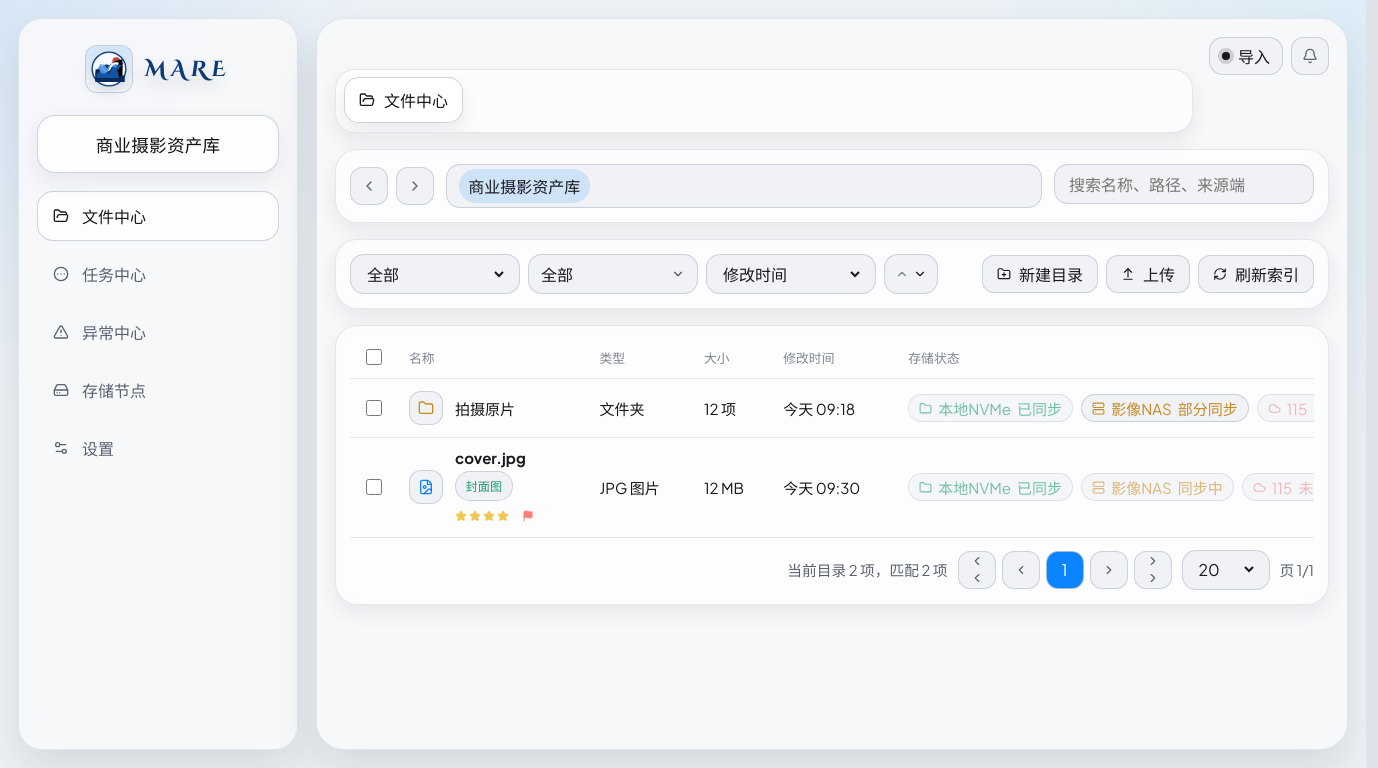
Scenario: App 集成流程 › 页头导入入口可以打开导入中心顶层标签
This screenshot has width=1378, height=768.
What coordinates should you click on to do the following:
click the button "导入"
I would click on:
 (1246, 56)
Its box is x1=1209 y1=37 x2=1283 y2=75.
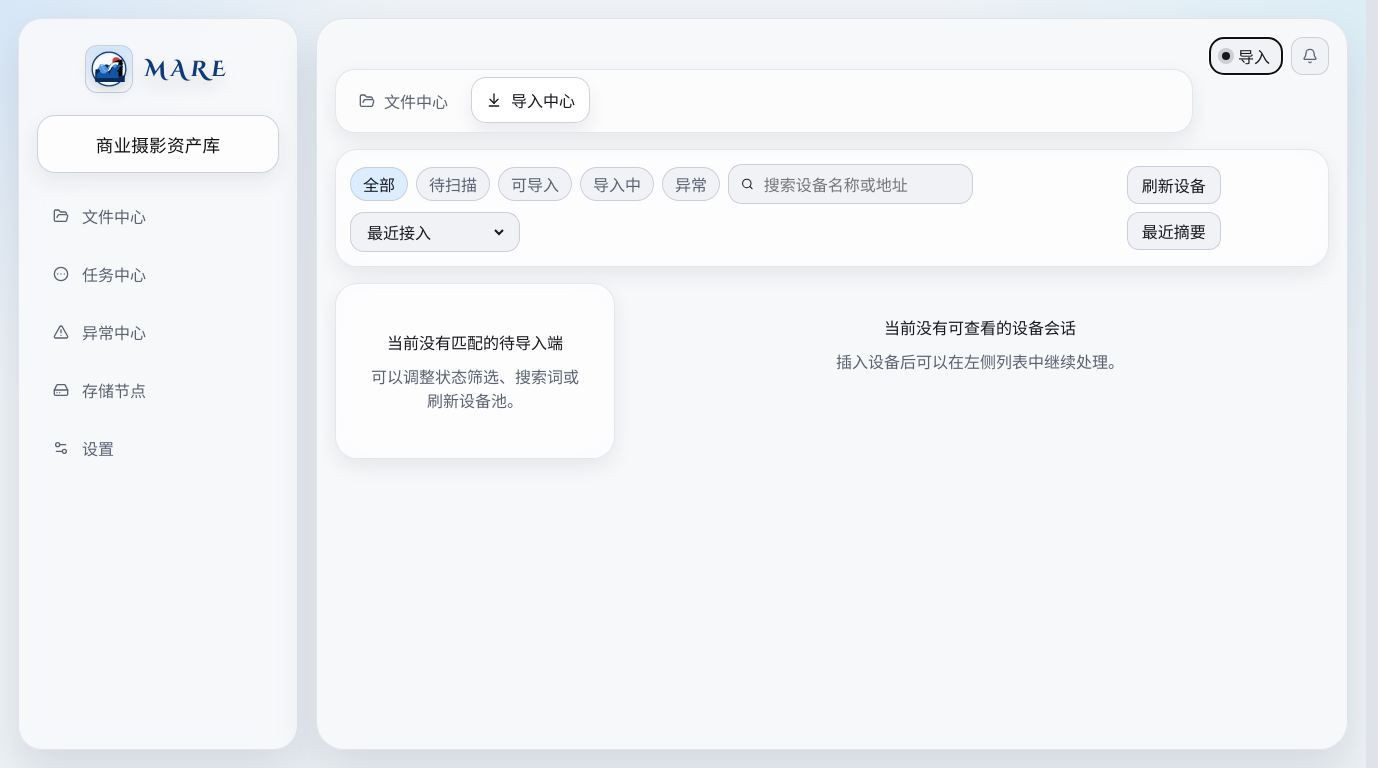
Result: the tab "导入中心" is shown at x1=471 y1=77 x2=590 y2=123
